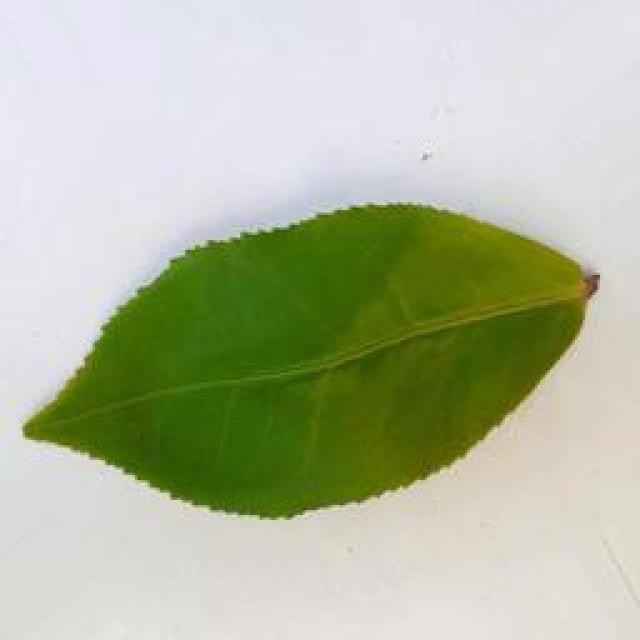Healthy: (22, 189, 603, 528)
